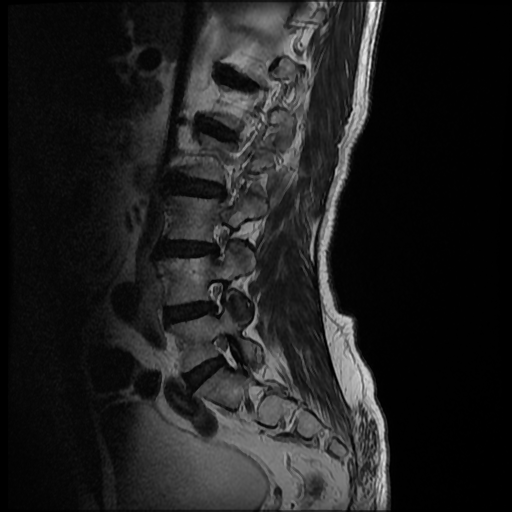RFS0: (199, 216, 238, 270), (203, 327, 245, 376), (196, 272, 233, 322)
